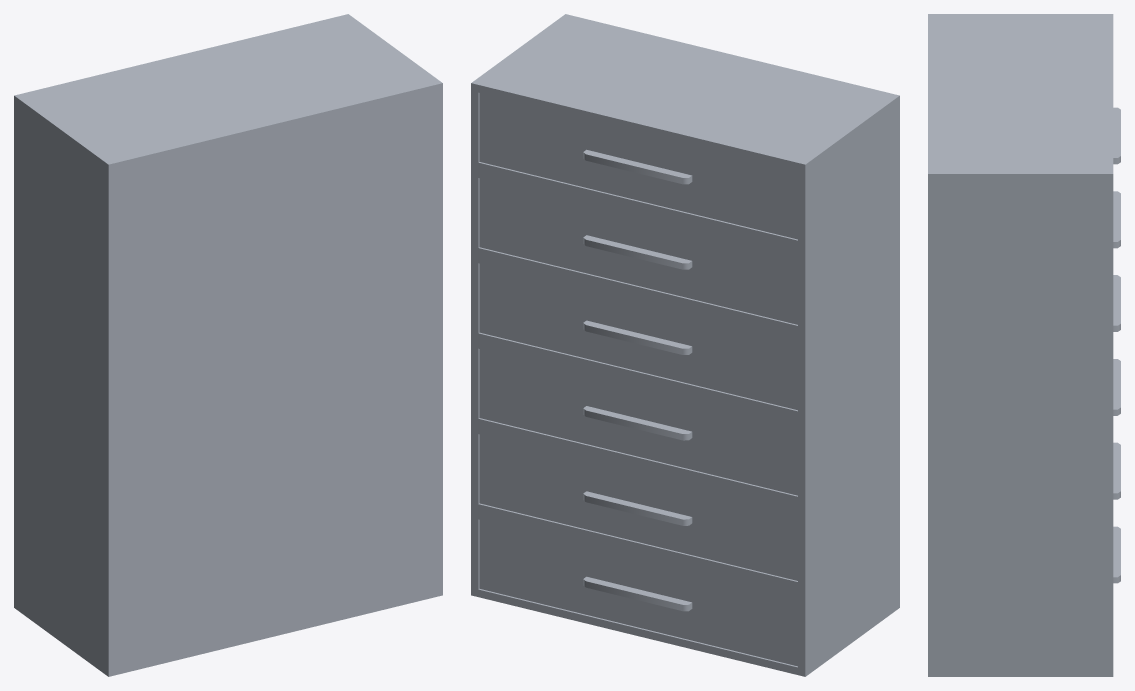
The model's file is prop-parts-cabinet.glb.
3 renders of one model, left to right at view 1: azimuth 30°, elevation 25°; view 2: azimuth 150°, elevation 25°; view 3: azimuth 270°, elevation 25°, orthographic.
Parts seen in each view (by area): view 1: container_shelf.001; view 2: container_shelf.001, container.009, container.011, container.006, container.007, container.008, container.010; view 3: container_shelf.001, container.006, container.007, container.008, container.011, container.009, container.010.
Part boxes in pixels (<box>): container_shelf.001: <box>14,14,442,676</box>; container_shelf.001: <box>471,14,899,676</box>; container.009: <box>479,263,797,410</box>; container.011: <box>479,434,797,580</box>; container.006: <box>479,520,797,666</box>; container.007: <box>479,93,797,239</box>; container.008: <box>479,178,797,324</box>; container.010: <box>479,349,797,495</box>; container_shelf.001: <box>928,14,1113,676</box>; container.006: <box>1113,526,1120,583</box>; container.007: <box>1113,107,1120,164</box>; container.008: <box>1113,191,1120,248</box>; container.011: <box>1113,442,1120,499</box>; container.009: <box>1113,275,1120,331</box>; container.010: <box>1113,359,1120,415</box>.
Bounding box in the file's own units: 51.64 × 75.62 × 26.28.
Materials: 2 (2 with a texture image).
